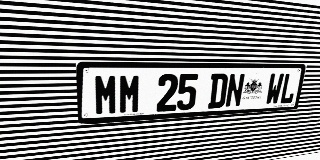2: (156, 74, 179, 112)
5: (177, 74, 198, 111)
D: (207, 73, 229, 109)
L: (279, 73, 298, 104)
M: (94, 74, 118, 116), (118, 74, 141, 114)
N: (225, 73, 245, 108)
W: (265, 73, 284, 105)
